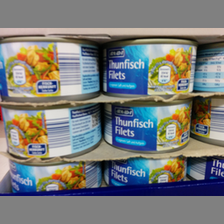fish: (1, 39, 104, 101), (2, 107, 103, 159), (104, 40, 197, 95), (103, 101, 193, 152), (6, 157, 101, 192), (103, 152, 187, 185)
